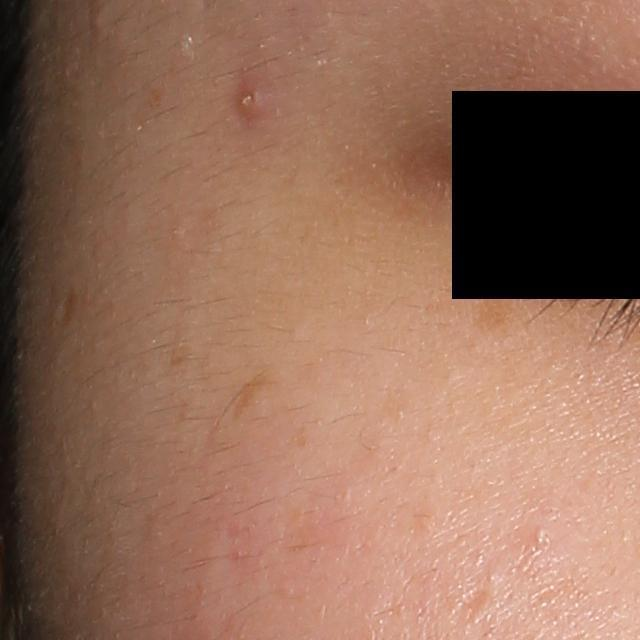atrophic_scar: (453, 585, 496, 625)
comedo: (88, 5, 114, 34)
melasma: (232, 371, 276, 428), (465, 289, 521, 333)
papule: (232, 69, 281, 128)
